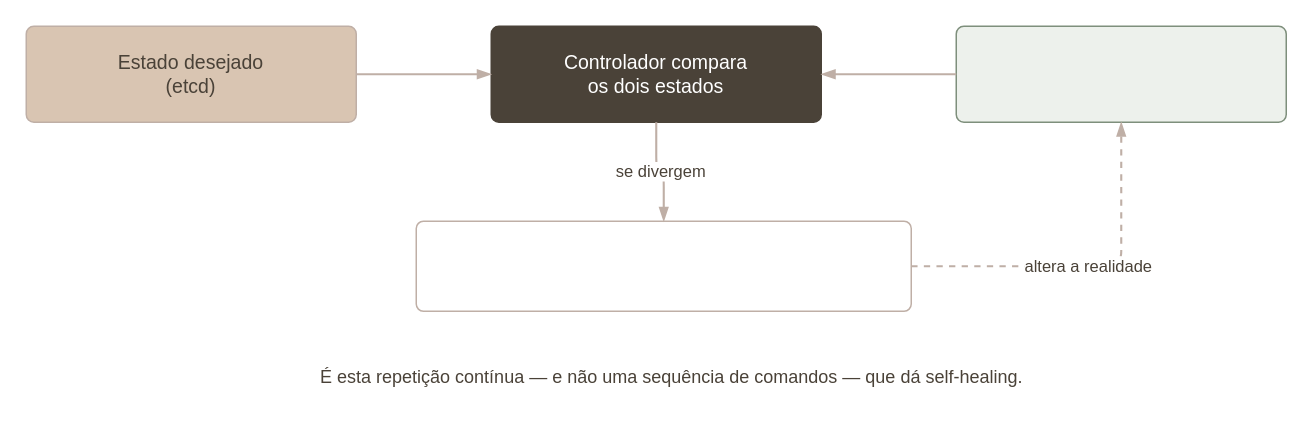
The diagram is 1313 pixels wide and 425 high, and some of its shapes have lost their labels. Here are the shapes that lost their labels. From the top down, the centre of each, then its label:
At [1120,73]: "Estado observado (kubelets)".
At [663,265]: "Age para reduzir a diferença (cria, remove, substitui Pods)".
